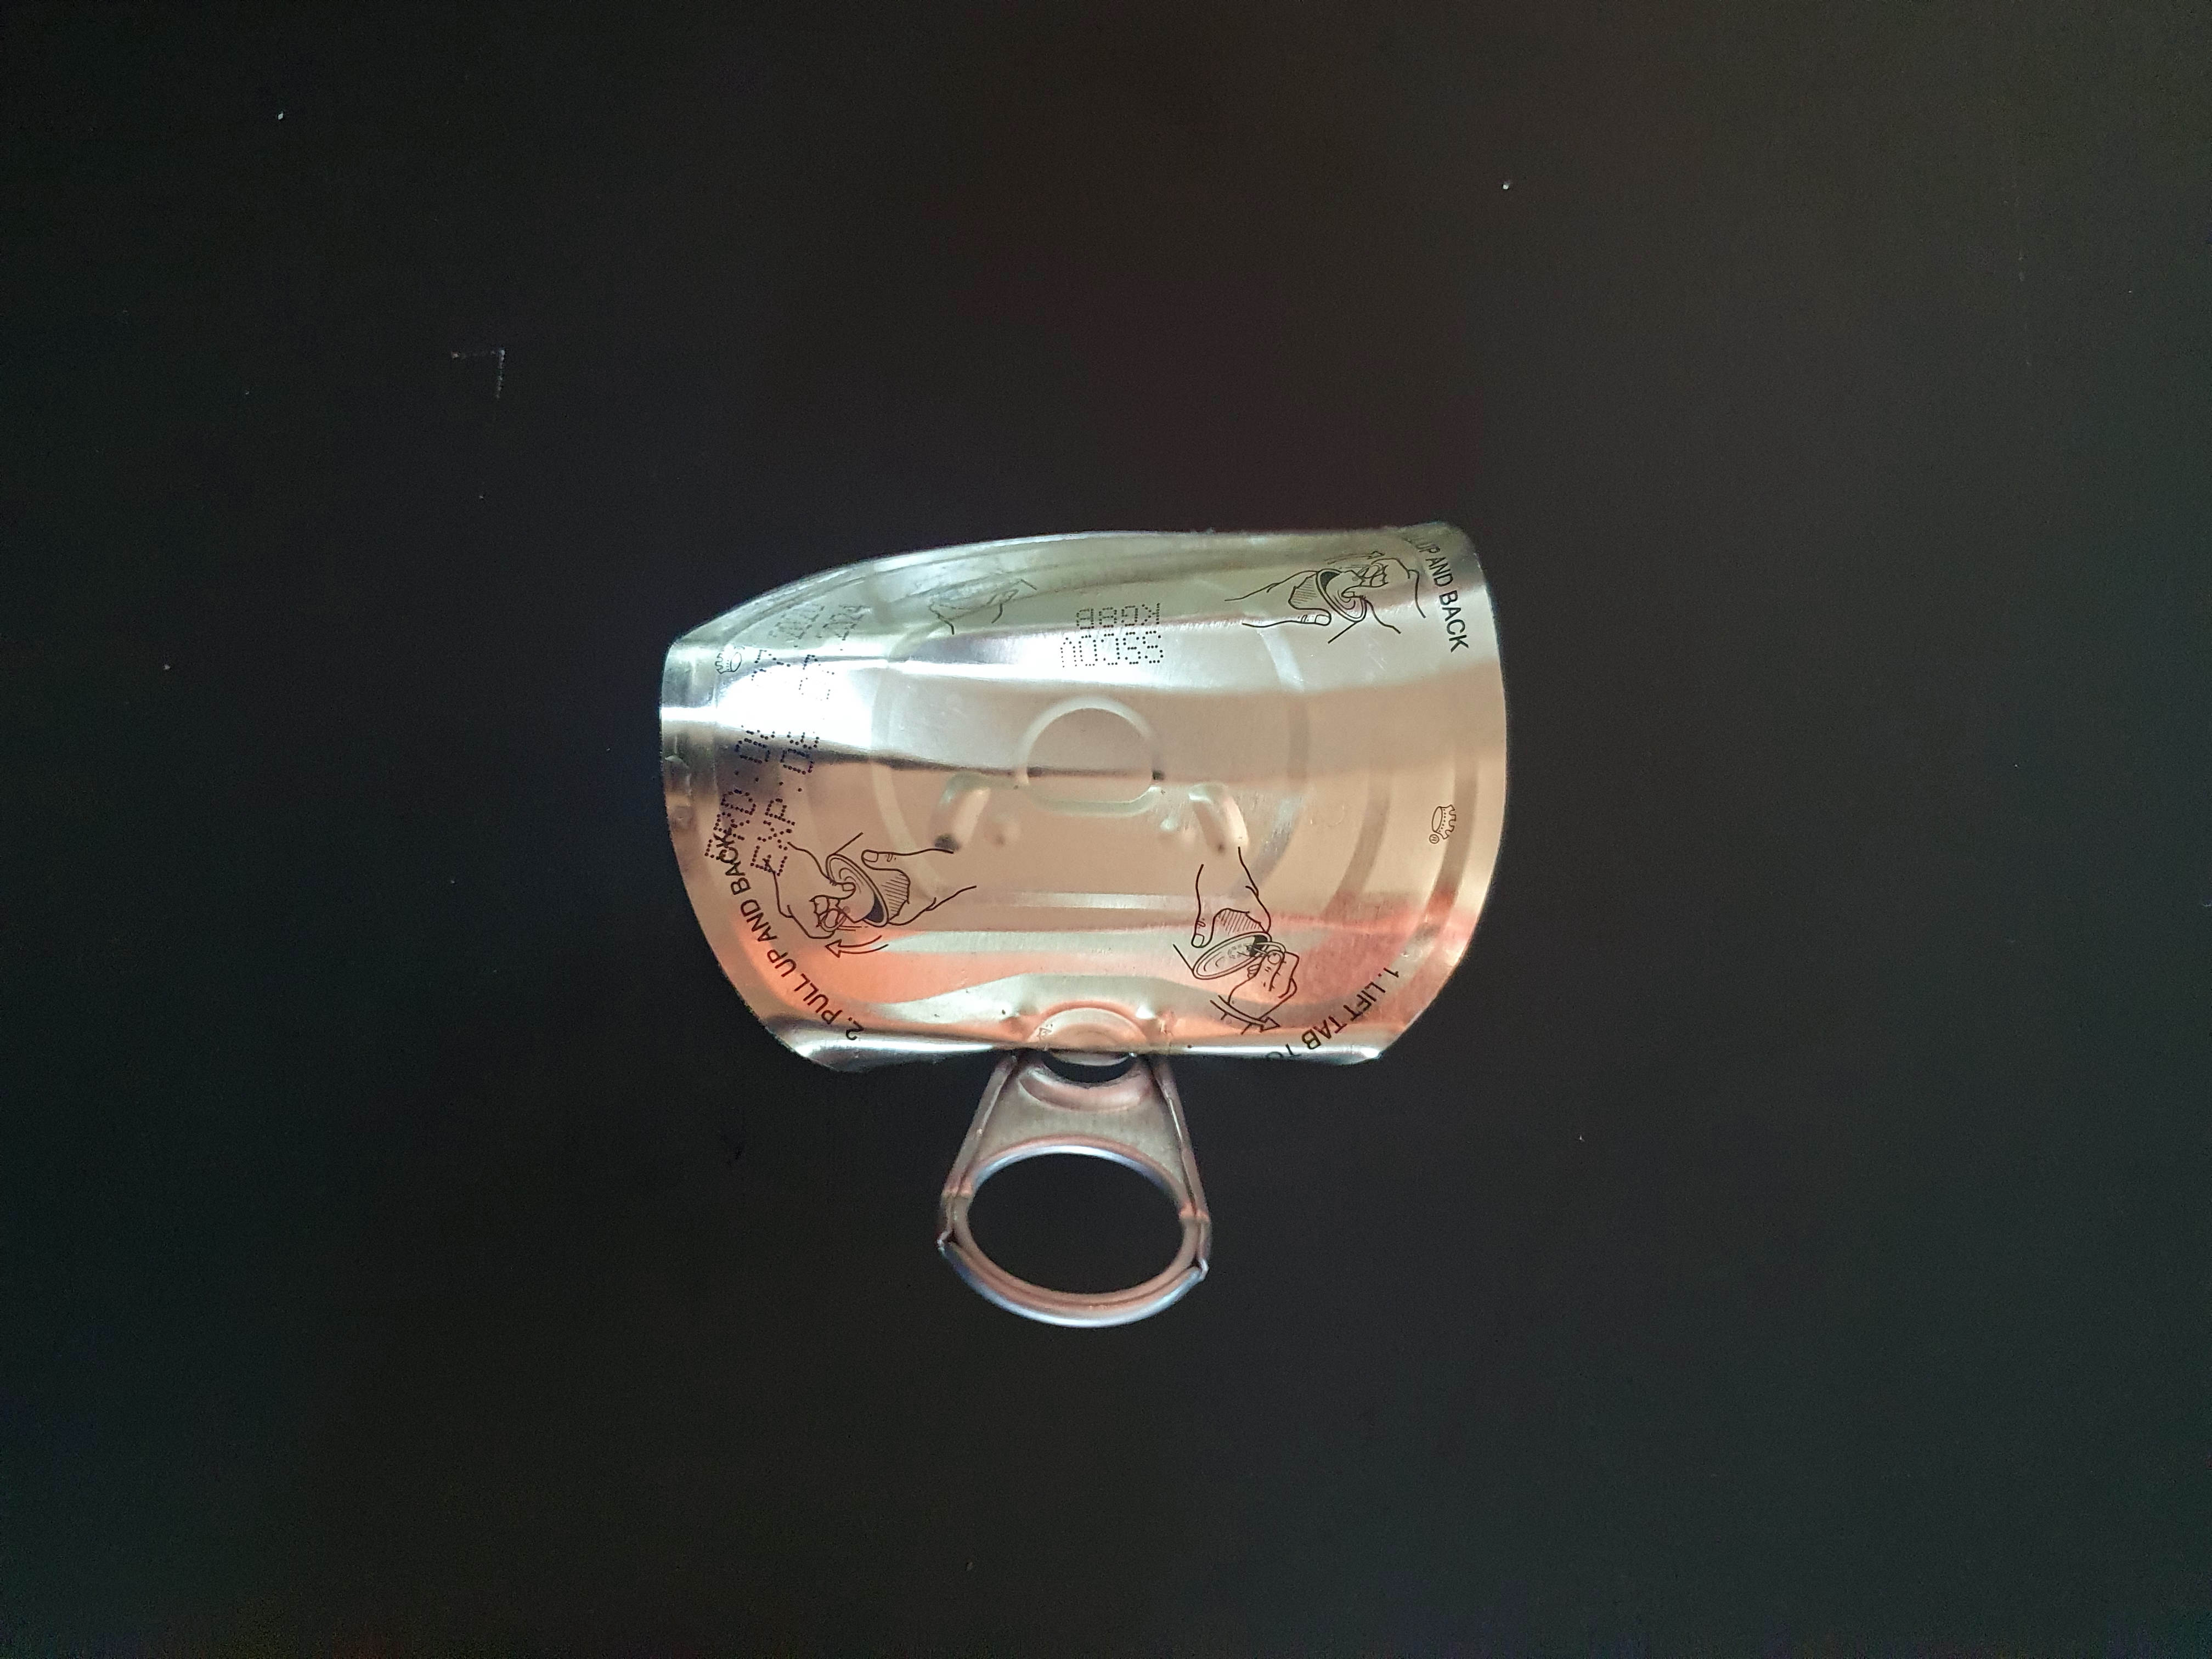metal: (550, 411, 1573, 1384)
